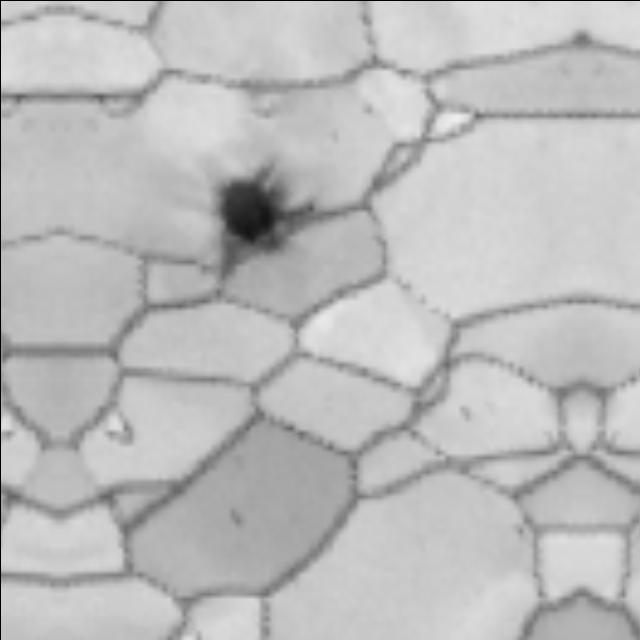good_void: (210, 164, 316, 265), (225, 503, 247, 529)
